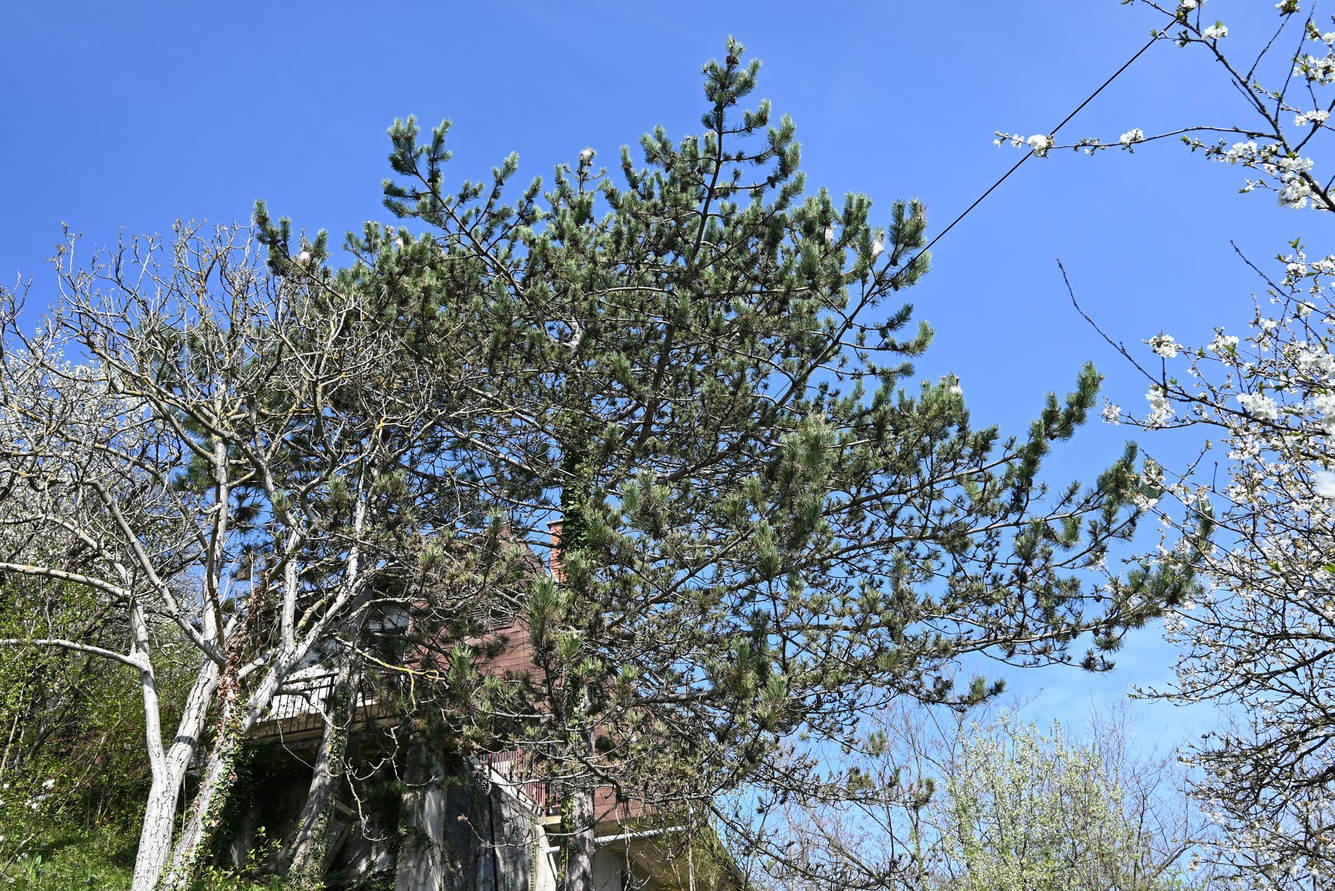thaumatopoea pityocampa jajno gnijezdo: (295, 247, 315, 273), (946, 384, 969, 399), (576, 148, 595, 165), (868, 241, 885, 259), (823, 226, 835, 247)
